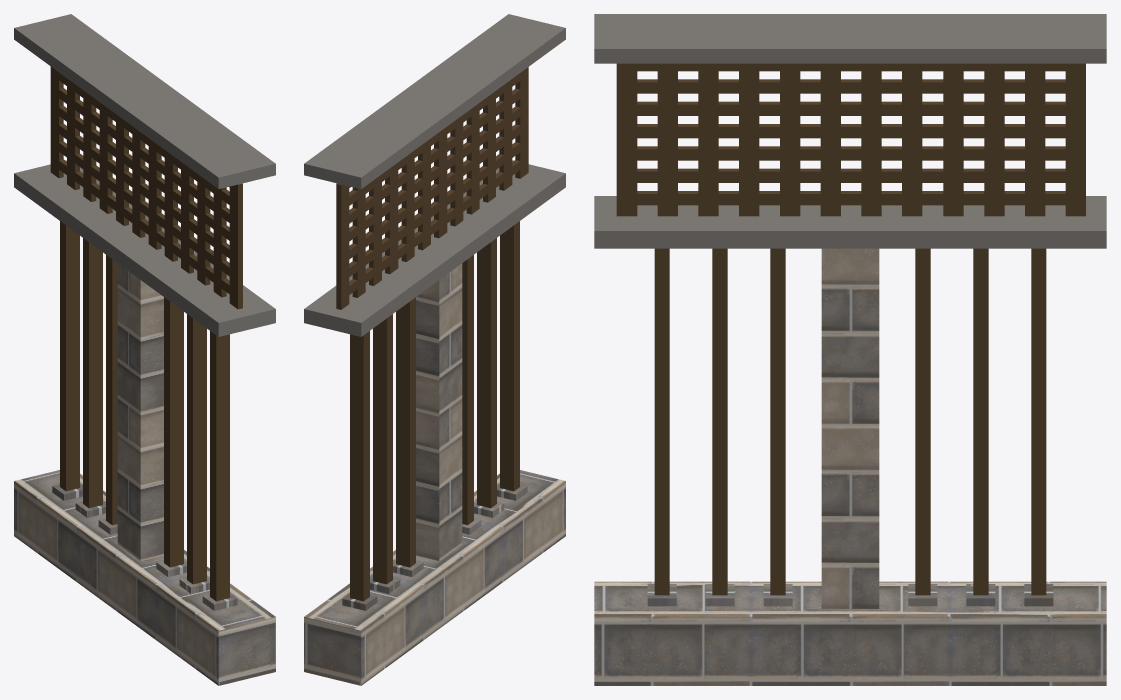
Rendered from 30_03_2020_window.fbx.
3 views of the same model, side by side, from view 1: azimuth 30°, elevation 25°; view 2: azimuth 150°, elevation 25°; view 3: azimuth 270°, elevation 25° (orthographic). The views are drawn at different scales.
Parts seen in each view (by area): view 1: Cube; view 2: Cube; view 3: Cube.
Part boxes in pixels (x1=…): Cube: x1=14, y1=14, x2=275, y2=685; Cube: x1=304, y1=14, x2=565, y2=685; Cube: x1=594, y1=14, x2=1106, y2=685.
Bounding box in the file's own units: 84 × 713 × 520.
